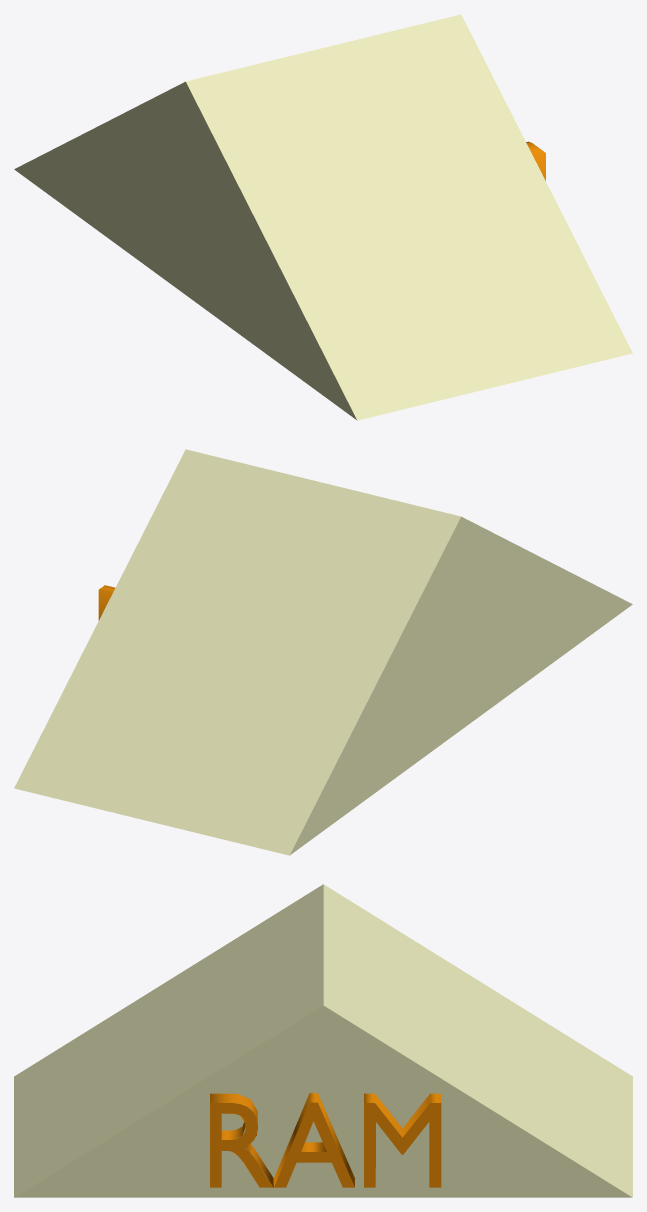
File: roofRAMM.fbx
The picture shows the model from 3 angles, top to bottom: view 1: azimuth 30°, elevation 25°; view 2: azimuth 150°, elevation 25°; view 3: azimuth 270°, elevation 25°; orthographic projection. The views are drawn at different scales.
Visible parts, largest first — view 1: Text; view 2: Text; view 3: Text.
Boxes of the visible parts, bbox=[...] form: Text: bbox=[14, 14, 632, 420]; Text: bbox=[14, 449, 632, 855]; Text: bbox=[14, 884, 632, 1197].
Bounding box in the file's own units: 181 × 124 × 362.
